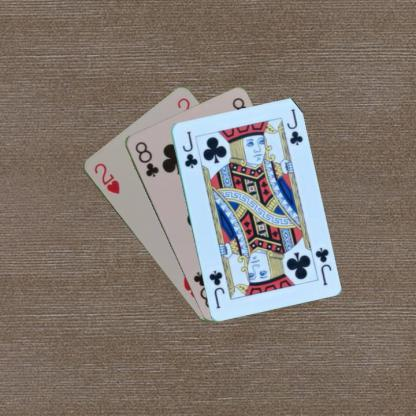2h: (90, 160, 120, 196)
8c: (132, 138, 160, 178)
Jc: (179, 128, 199, 170), (312, 244, 332, 286)
